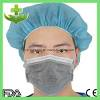mask: (24, 22, 74, 89)
